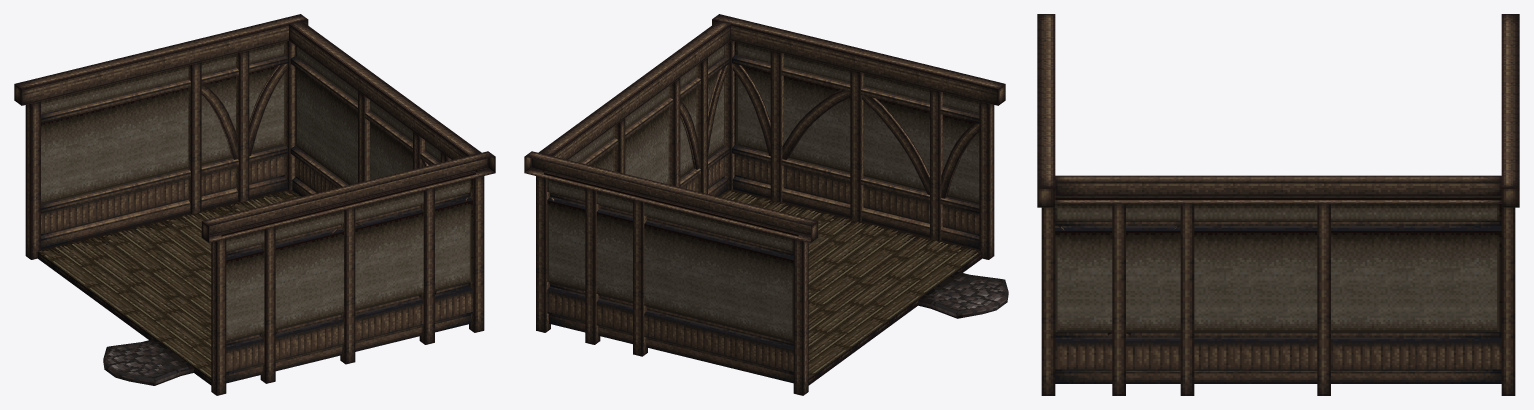
File: EnvBdgMD_Mount_A_Indoor_House_Priest.FBX
3 views of the same model, side by side, from view 1: azimuth 30°, elevation 25°; view 2: azimuth 150°, elevation 25°; view 3: azimuth 270°, elevation 25° (orthographic). The views are drawn at different scales.
Visible parts, largest first — view 1: EnvBdgMD_Mount_A_Indoor_House_Priest; view 2: EnvBdgMD_Mount_A_Indoor_House_Priest; view 3: EnvBdgMD_Mount_A_Indoor_House_Priest.
Boxes of the visible parts, <box> form: EnvBdgMD_Mount_A_Indoor_House_Priest: <box>14,14,495,395</box>; EnvBdgMD_Mount_A_Indoor_House_Priest: <box>524,14,1008,395</box>; EnvBdgMD_Mount_A_Indoor_House_Priest: <box>1037,14,1519,395</box>.
Size of the model in its own units: 1050 by 520 by 1060.
1 material, 1 textured.
